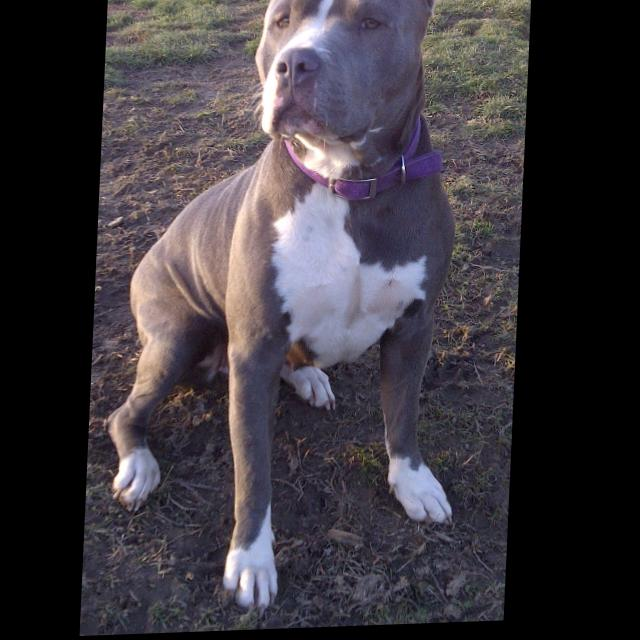other_dog_breed: (103, 1, 478, 623)
